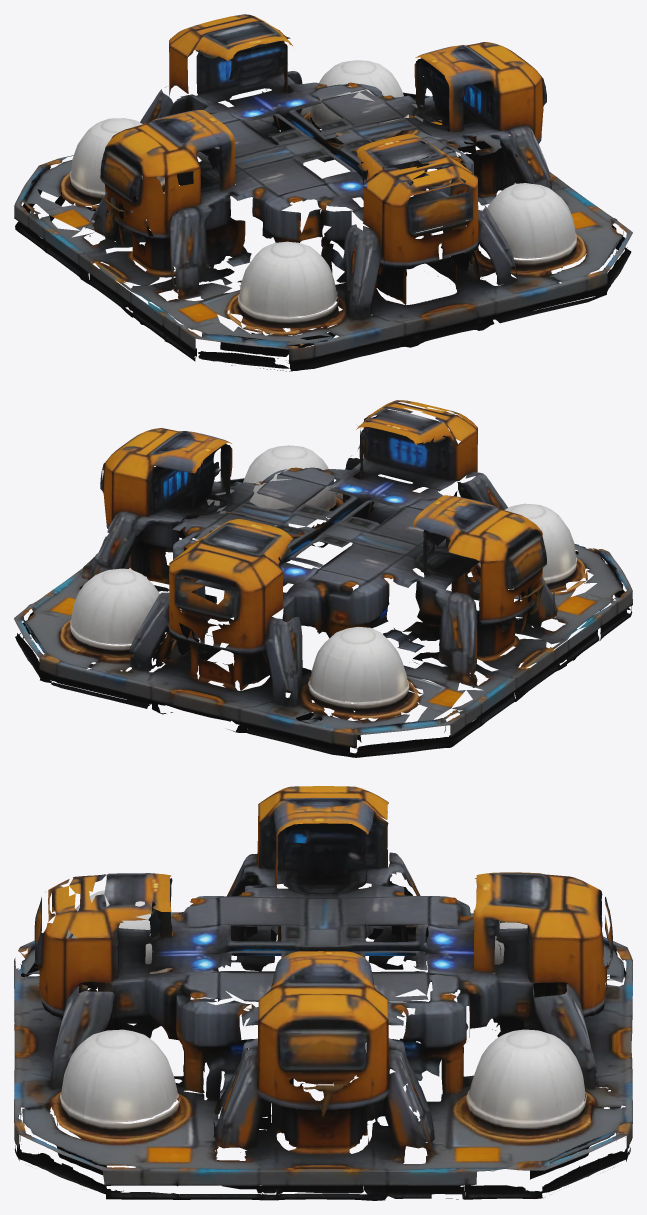
The model's file is habitat.glb.
3 renders of one model, top to bottom at view 1: azimuth 30°, elevation 25°; view 2: azimuth 150°, elevation 25°; view 3: azimuth 270°, elevation 25°, orthographic. The views are drawn at different scales.
Visible parts, largest first — view 1: geometry_0.2068; view 2: geometry_0.2068; view 3: geometry_0.2068.
Boxes of the visible parts, x1,y1,x2,y2 form: geometry_0.2068: [14, 14, 632, 371]; geometry_0.2068: [14, 400, 632, 757]; geometry_0.2068: [14, 786, 632, 1200].
Bounding box in the file's own units: 1.94 × 0.6655 × 1.96.
Materials: 1 (1 with a texture image).
